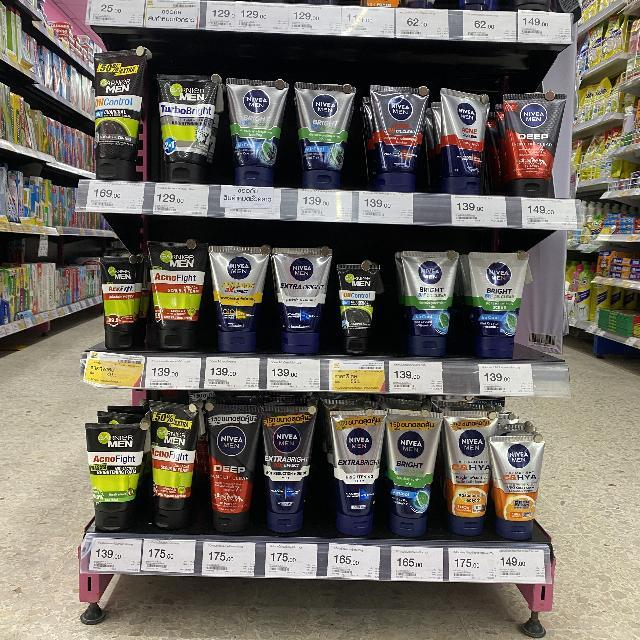Squeeze Tube: (72, 35, 580, 578)
